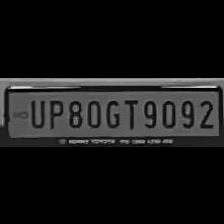0: (158, 96, 178, 127), (84, 95, 102, 127)
2: (195, 96, 215, 128)
8: (64, 96, 84, 128)
9: (138, 95, 158, 127), (176, 95, 196, 127)
G: (102, 95, 120, 127)
P: (44, 96, 64, 128)
T: (121, 95, 139, 129)
U: (25, 94, 45, 128)
